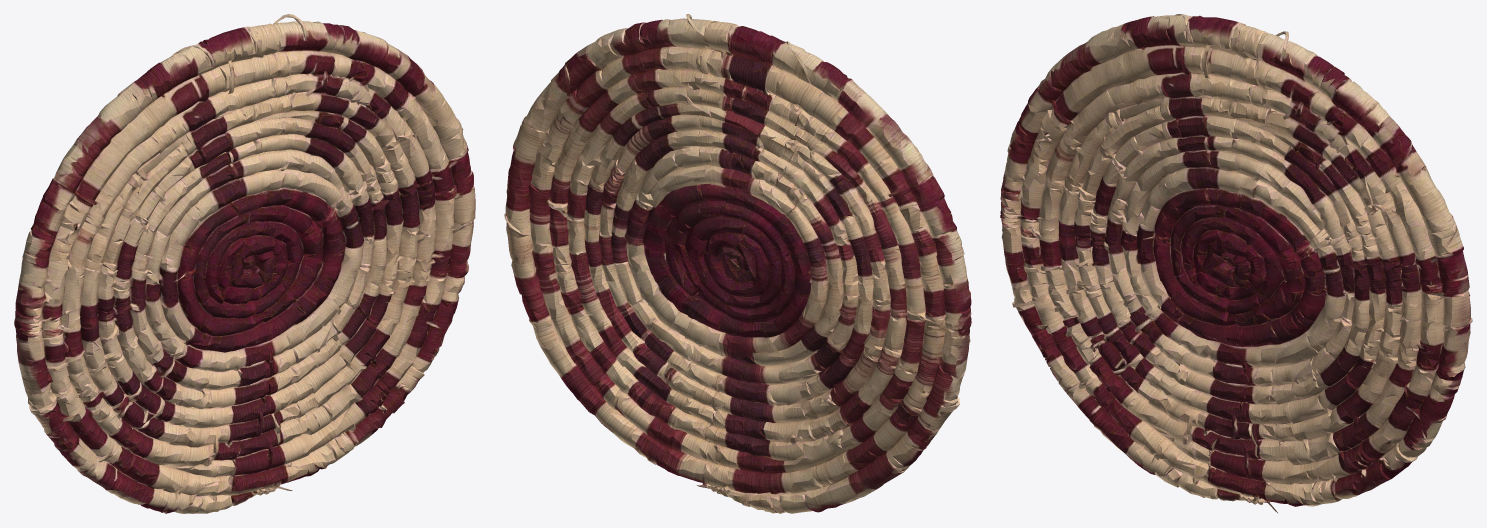
File: sister-14.glb
3 views of the same model, side by side, from view 1: azimuth 30°, elevation 25°; view 2: azimuth 150°, elevation 25°; view 3: azimuth 330°, elevation 25° (orthographic).
Parts seen in each view (by area): view 1: woven trivet; view 2: woven trivet; view 3: woven trivet.
Boxes of the visible parts, left/top/right/bottom form: woven trivet: left=14, top=14, right=475, bottom=513; woven trivet: left=504, top=14, right=971, bottom=513; woven trivet: left=1000, top=14, right=1472, bottom=512.
Size of the model in its own units: 0.204 by 0.2019 by 0.0164.
Materials: 1 (1 with a texture image).
